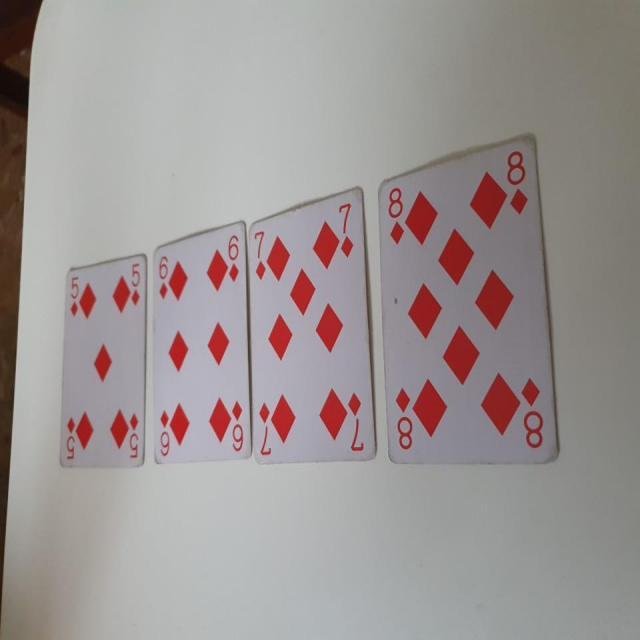5 of diamonds: (56, 251, 148, 468)
6 of diamonds: (150, 216, 250, 461)
7 of diamonds: (246, 188, 376, 468)
8 of diamonds: (378, 133, 562, 464)
